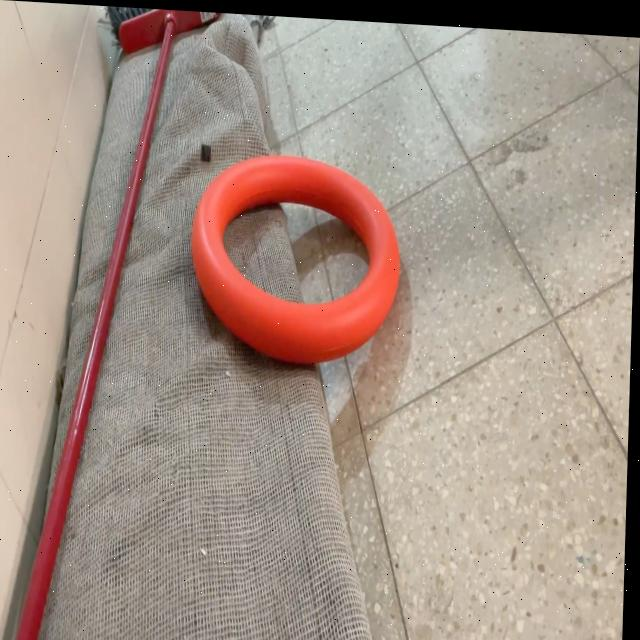note: (188, 144, 406, 369)
